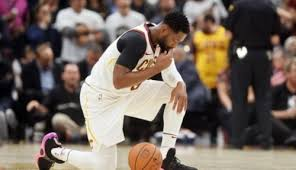10+: (1, 1, 295, 170)
